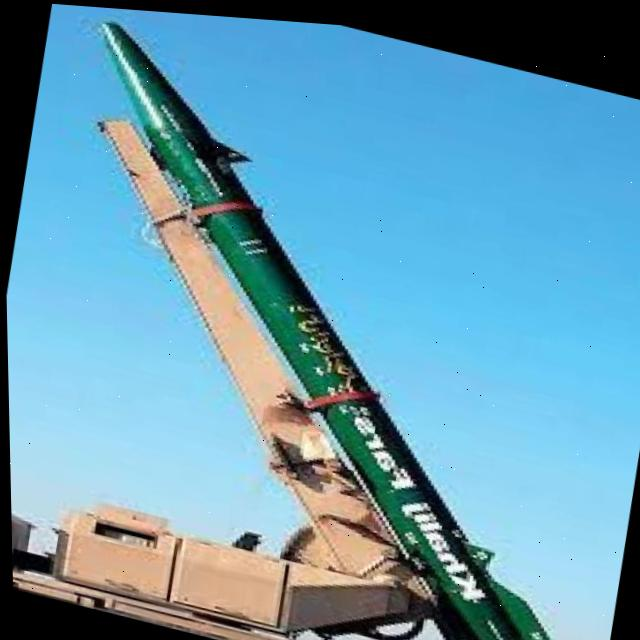missile: (0, 11, 640, 640)
